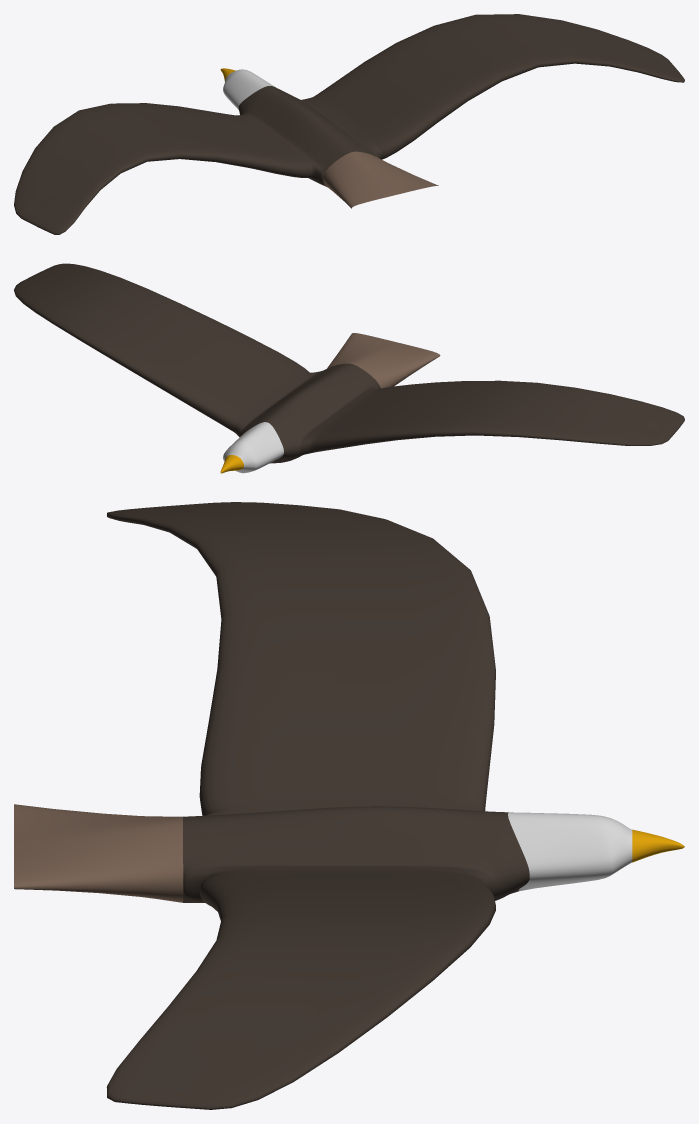
The model's file is eagle-flying.glb.
3 renders of one model, top to bottom at view 1: azimuth 30°, elevation 25°; view 2: azimuth 150°, elevation 25°; view 3: azimuth 270°, elevation 25°, orthographic. The views are drawn at different scales.
Parts seen in each view (by area): view 1: Cylinder001; view 2: Cylinder001; view 3: Cylinder001.
Part boxes in pixels (left/top/right/bottom): Cylinder001: left=14, top=14, right=684, bottom=234; Cylinder001: left=14, top=263, right=684, bottom=473; Cylinder001: left=14, top=502, right=684, bottom=1109.
Bounding box in the file's own units: 260 × 32.16 × 122.
